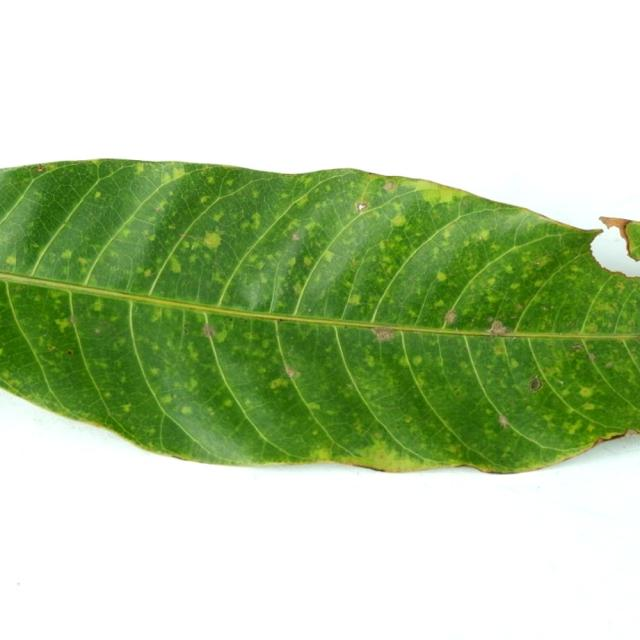Mango: (0, 159, 639, 472)
Powdery_Mildew: (567, 276, 634, 332), (333, 440, 446, 472), (389, 209, 414, 231), (419, 187, 449, 205), (371, 326, 397, 342), (487, 319, 510, 336), (203, 230, 222, 249), (312, 447, 332, 461), (54, 317, 72, 332), (443, 309, 458, 326), (270, 378, 290, 390), (566, 419, 583, 433), (283, 364, 298, 379), (528, 376, 542, 392), (202, 323, 216, 338), (169, 258, 182, 274), (93, 321, 108, 334), (249, 212, 261, 228), (186, 345, 198, 361), (91, 299, 105, 312), (498, 414, 510, 429), (215, 329, 228, 342), (380, 255, 393, 268), (342, 276, 354, 290), (579, 387, 594, 398), (348, 293, 361, 305), (383, 180, 396, 192), (306, 222, 320, 233), (623, 428, 638, 438), (364, 355, 376, 367), (174, 167, 185, 180), (485, 294, 499, 304), (212, 211, 224, 222), (323, 250, 335, 261), (292, 282, 303, 294), (212, 273, 224, 284), (477, 231, 490, 241), (5, 255, 16, 266), (412, 355, 423, 366), (298, 195, 309, 206), (60, 249, 72, 259), (433, 299, 445, 309), (493, 346, 505, 356), (187, 379, 197, 391), (180, 406, 193, 415), (160, 394, 173, 403), (436, 272, 447, 282), (303, 256, 313, 267), (571, 343, 584, 351), (240, 221, 250, 231), (121, 229, 132, 238), (587, 324, 598, 333), (308, 402, 320, 410), (7, 379, 19, 387), (582, 403, 595, 410), (143, 268, 153, 277), (504, 265, 514, 274), (135, 164, 144, 174), (223, 399, 233, 408), (378, 240, 387, 250), (616, 281, 626, 290), (291, 232, 301, 241), (68, 315, 77, 325), (357, 202, 367, 211), (402, 416, 413, 424), (150, 367, 159, 376), (255, 260, 264, 269), (199, 196, 209, 204), (486, 278, 496, 286), (78, 257, 88, 265), (288, 257, 296, 267), (510, 283, 520, 291), (259, 273, 267, 283), (604, 361, 614, 369), (206, 176, 215, 184), (225, 179, 234, 187), (122, 404, 131, 412), (188, 255, 197, 263), (490, 243, 499, 251), (561, 389, 570, 397), (261, 340, 269, 349), (587, 353, 596, 361), (36, 164, 45, 172), (251, 189, 258, 199), (182, 325, 189, 335), (47, 344, 56, 351), (31, 242, 39, 249), (515, 303, 523, 310), (94, 191, 101, 198), (149, 234, 156, 241), (312, 429, 319, 436), (155, 206, 162, 213), (66, 349, 73, 356), (168, 224, 176, 230), (408, 275, 416, 281), (104, 392, 111, 398), (191, 243, 197, 250), (227, 317, 233, 324), (486, 316, 493, 322), (0, 348, 5, 356), (134, 306, 139, 312), (347, 383, 352, 388), (534, 261, 540, 265), (478, 236, 483, 240), (344, 325, 348, 329), (308, 308, 311, 312)
